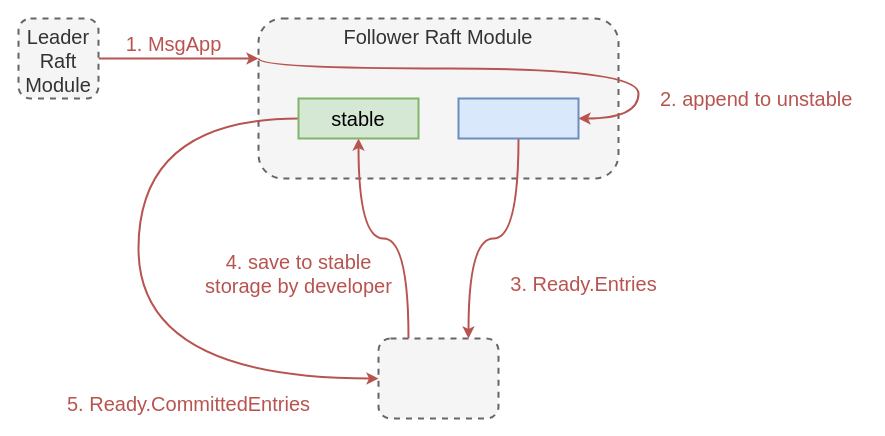
This 885x436 diagram has some shape labels left out. The centre of each missing label's shape, as x and y in pixels:
"Follower Application" belongs at pixel 438 378.
"unstable" belongs at pixel 518 118.
